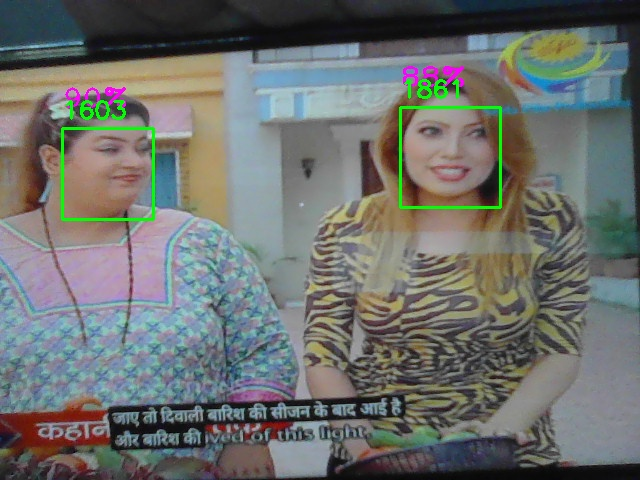fake: (400, 107, 501, 208), (62, 128, 154, 220)
